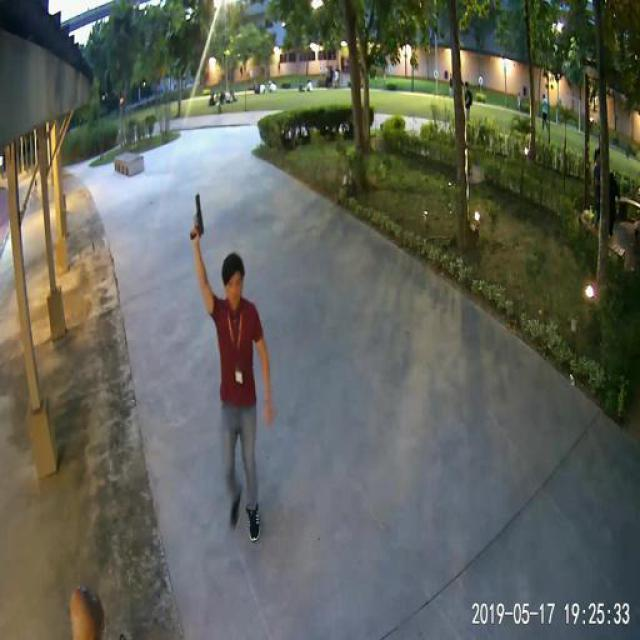Gun: (188, 191, 202, 240)
